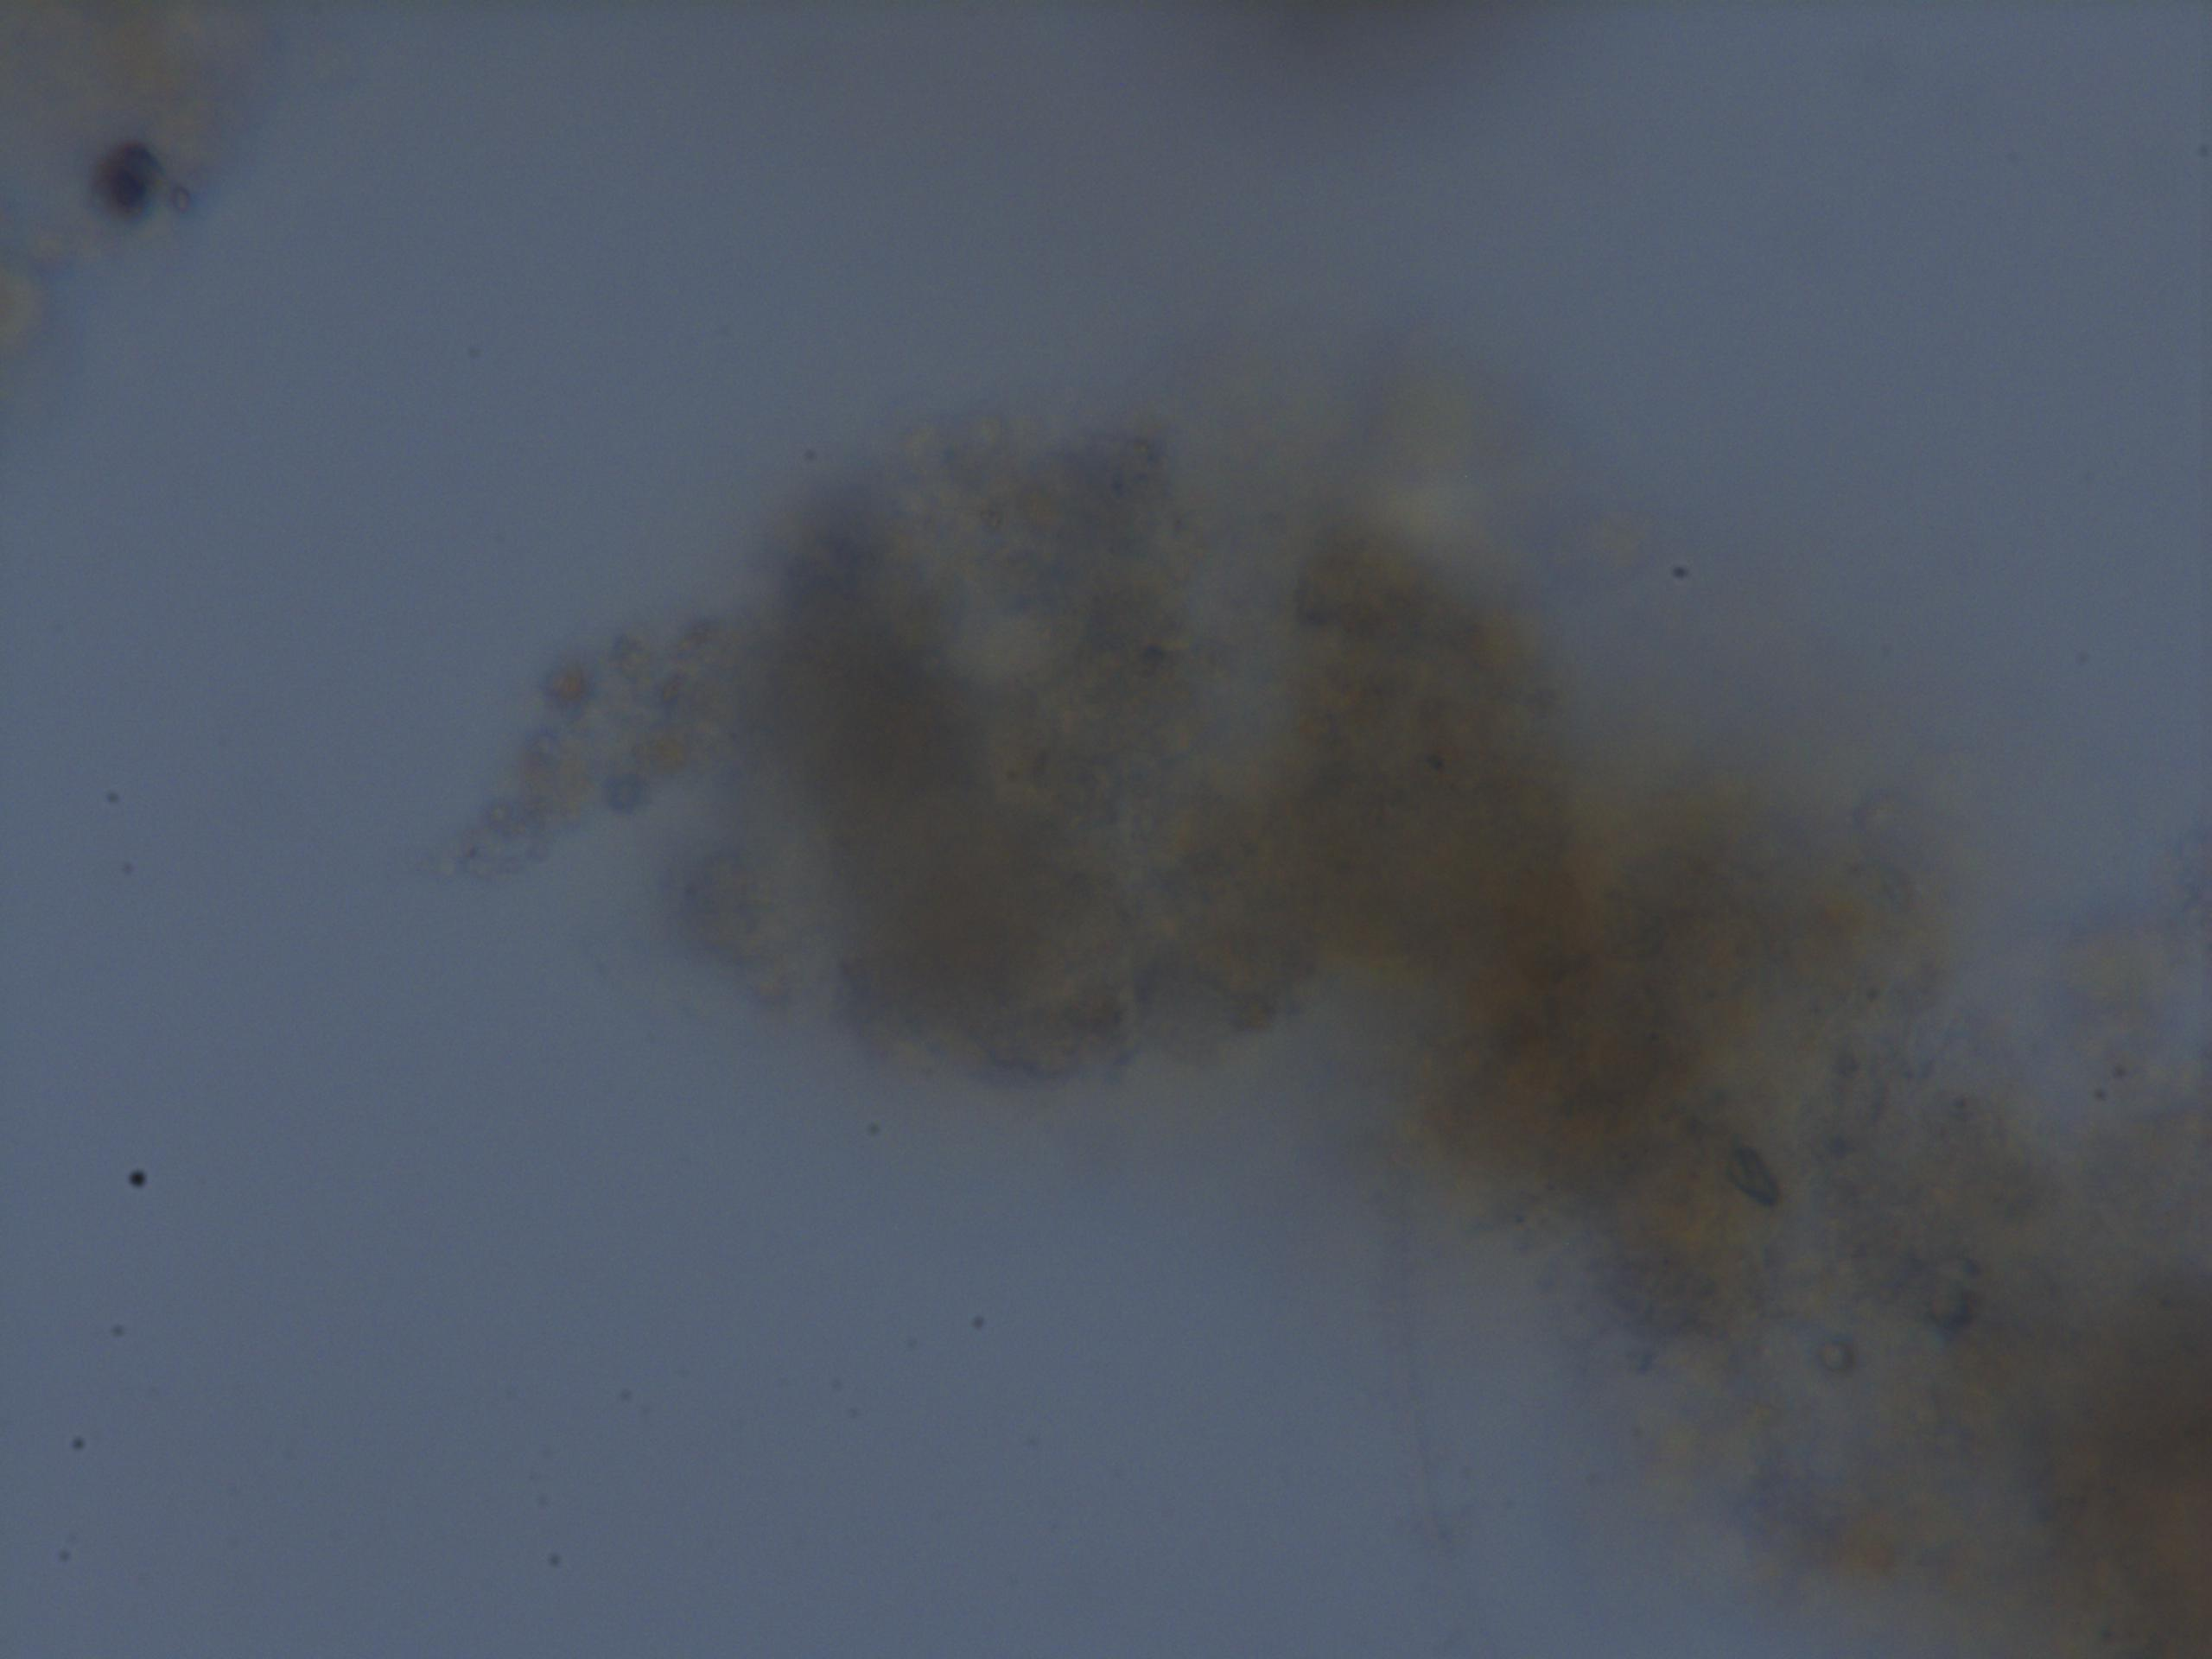open_floc: (517, 368, 2212, 1659)
